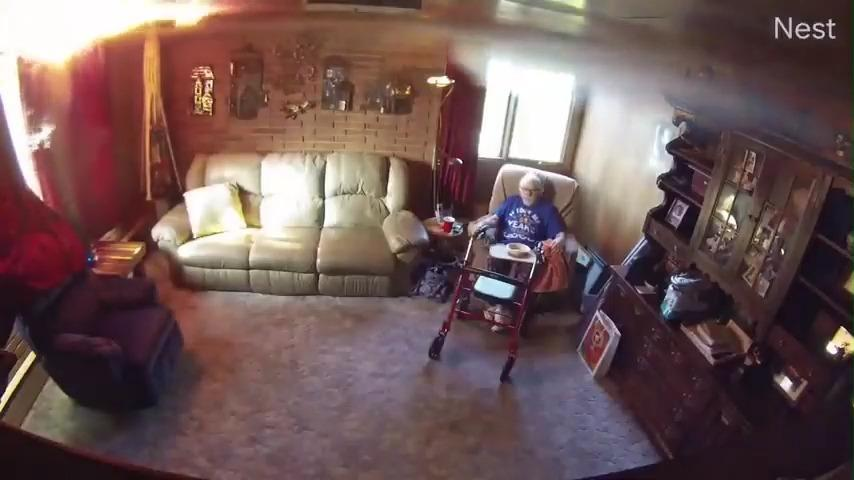fire: (2, 0, 217, 67)
